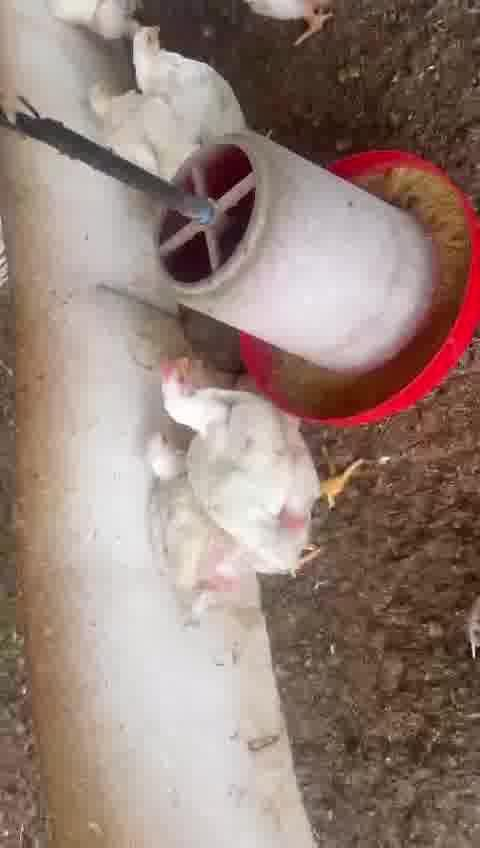Normal: (162, 357, 353, 571), (132, 428, 271, 608), (130, 24, 255, 134)
